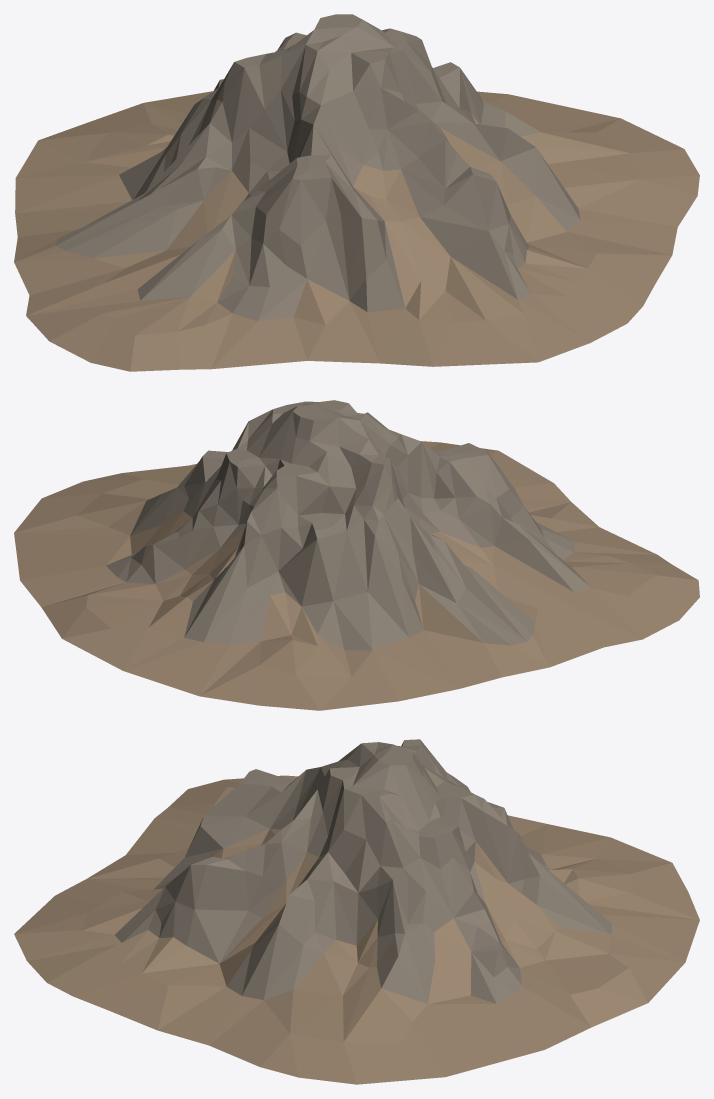
The model's file is SM_Env_Mountain_04.glb.
The picture shows the model from 3 angles, top to bottom: view 1: azimuth 30°, elevation 25°; view 2: azimuth 150°, elevation 25°; view 3: azimuth 270°, elevation 25°; orthographic projection. The views are drawn at different scales.
Parts seen in each view (by area): view 1: SM_Env_Mountain_04; view 2: SM_Env_Mountain_04; view 3: SM_Env_Mountain_04.
Part boxes in pixels (left/top/right/bottom): SM_Env_Mountain_04: left=14, top=14, right=699, bottom=371; SM_Env_Mountain_04: left=14, top=400, right=699, bottom=710; SM_Env_Mountain_04: left=14, top=739, right=699, bottom=1084.
Bounding box in the file's own units: 46.2 × 12.49 × 43.32.
1 material, 1 textured.
